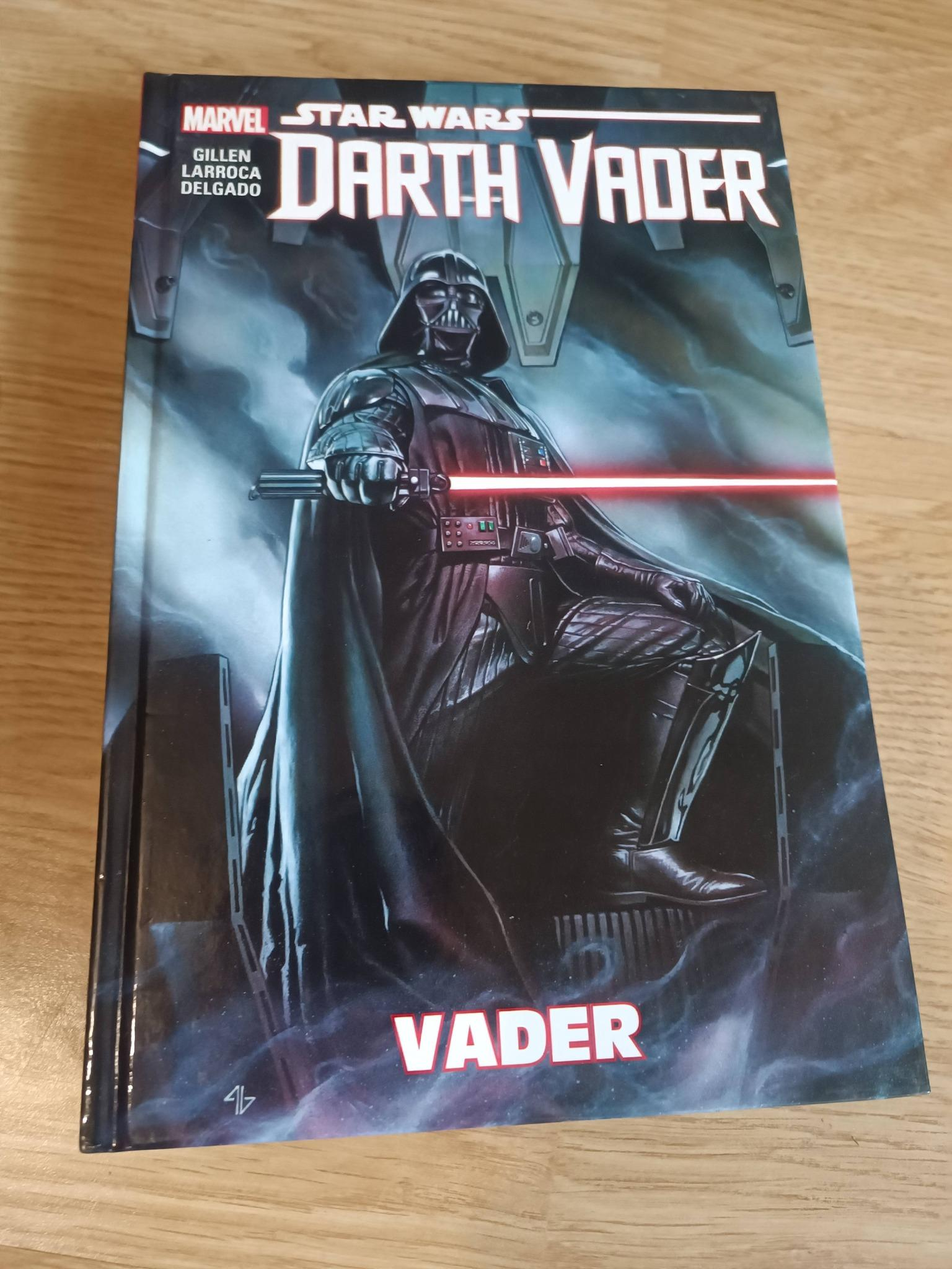comic: (6, 27, 927, 1154)
